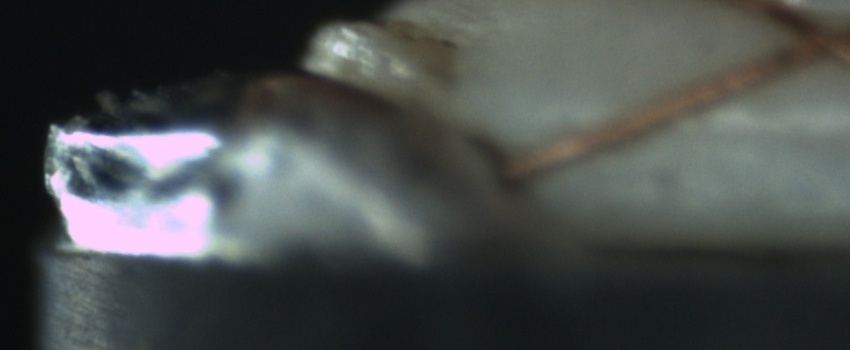DL: (623, 93, 850, 164)
